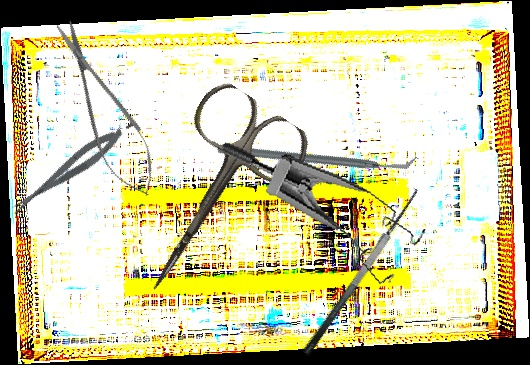Chopper: (215, 70, 420, 241)
Iris Scissors: (101, 75, 319, 321)
Micro Scissor: (40, 11, 170, 207), (4, 123, 129, 219)
Spatula Surgical: (287, 180, 427, 357)
Speculum: (199, 137, 436, 293)
